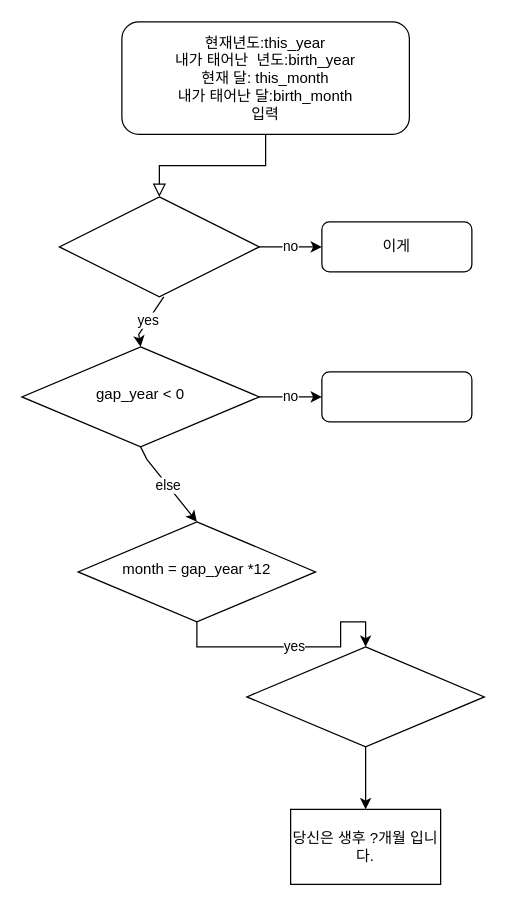
Image size: 506x906. Some labels were removed from this diagram. Each missing label, with the centre of its shape:
gap_month = month+this_month - birth_month: (365,696)
gap_year = this year-birthyaer: (158,246)
맞나: (396,396)
